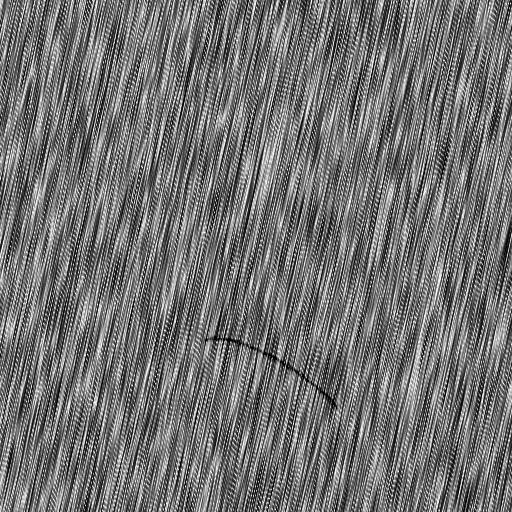DefectTypeC: (207, 335, 341, 408)
